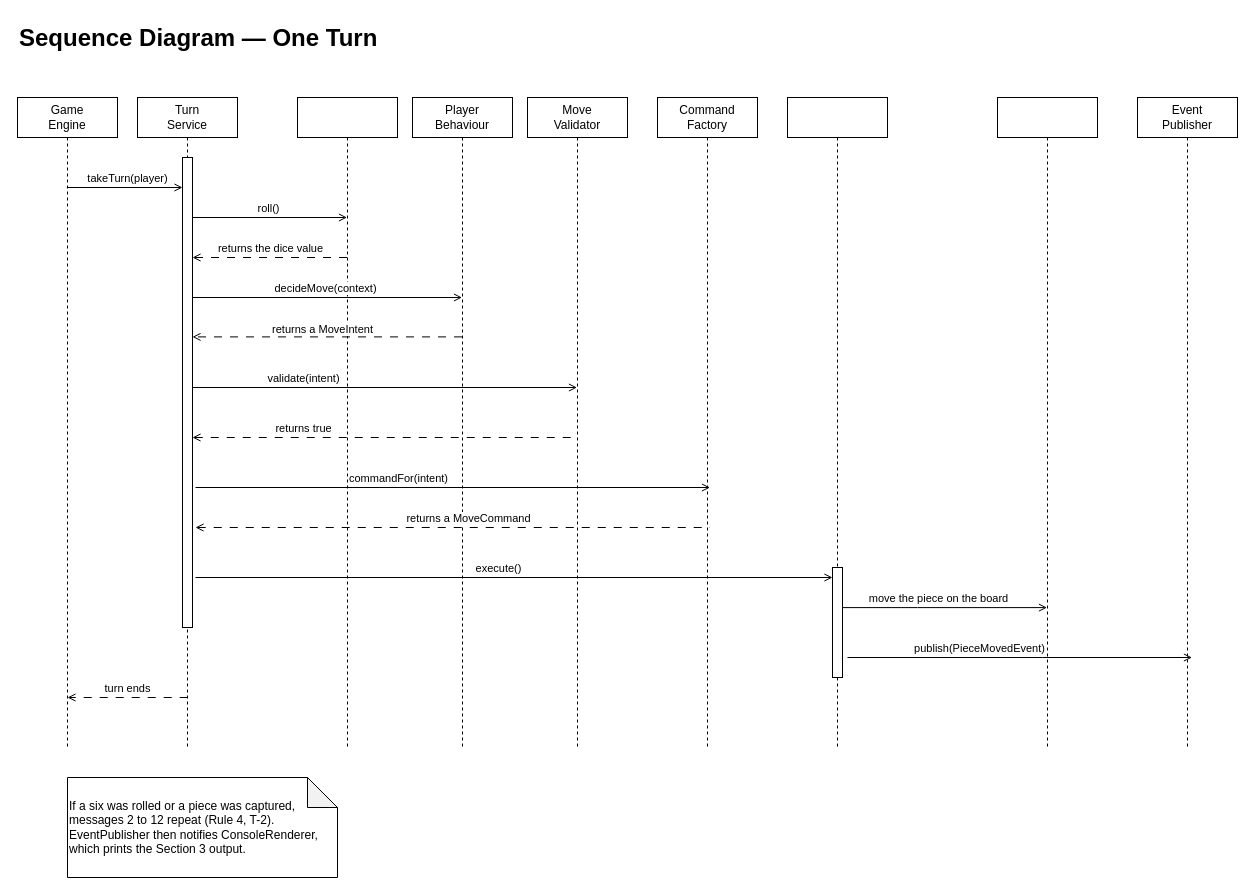
Image size: 1255x895. Some labels were removed from this diagram. The box of each missing label's shape, as (x1, y1, x2, y2) in pixels:
Board and Piece: (996, 96, 1098, 748)
Dice Roller: (296, 96, 398, 748)
Move Command: (786, 96, 888, 748)
